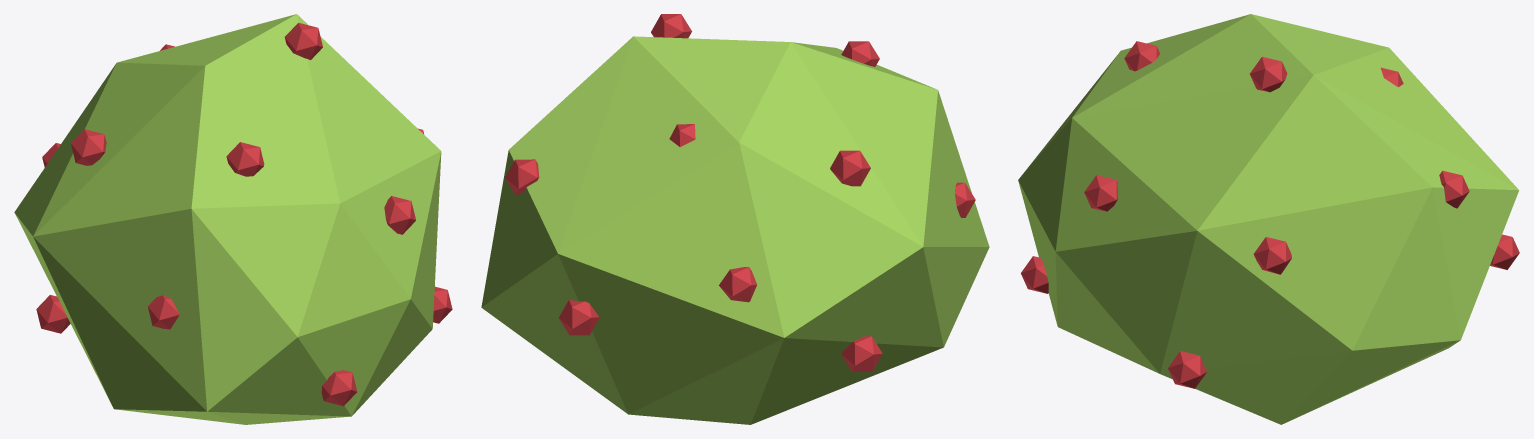
File: BushWithBerrys02.fbx
3 views of the same model, side by side, from view 1: azimuth 30°, elevation 25°; view 2: azimuth 150°, elevation 25°; view 3: azimuth 270°, elevation 25° (orthographic). The views are drawn at different scales.
Parts seen in each view (by area): view 1: Bush02, BushBerry02; view 2: Bush02, BushBerry02; view 3: Bush02, BushBerry02.
Part boxes in pixels (x1,y1,x2,y2): Bush02: (14, 14, 441, 424); BushBerry02: (36, 22, 452, 406); Bush02: (481, 36, 989, 424); BushBerry02: (505, 14, 975, 371); Bush02: (1018, 14, 1519, 424); BushBerry02: (1021, 41, 1519, 388).
Bounding box in the file's own units: 136 × 122 × 152.
